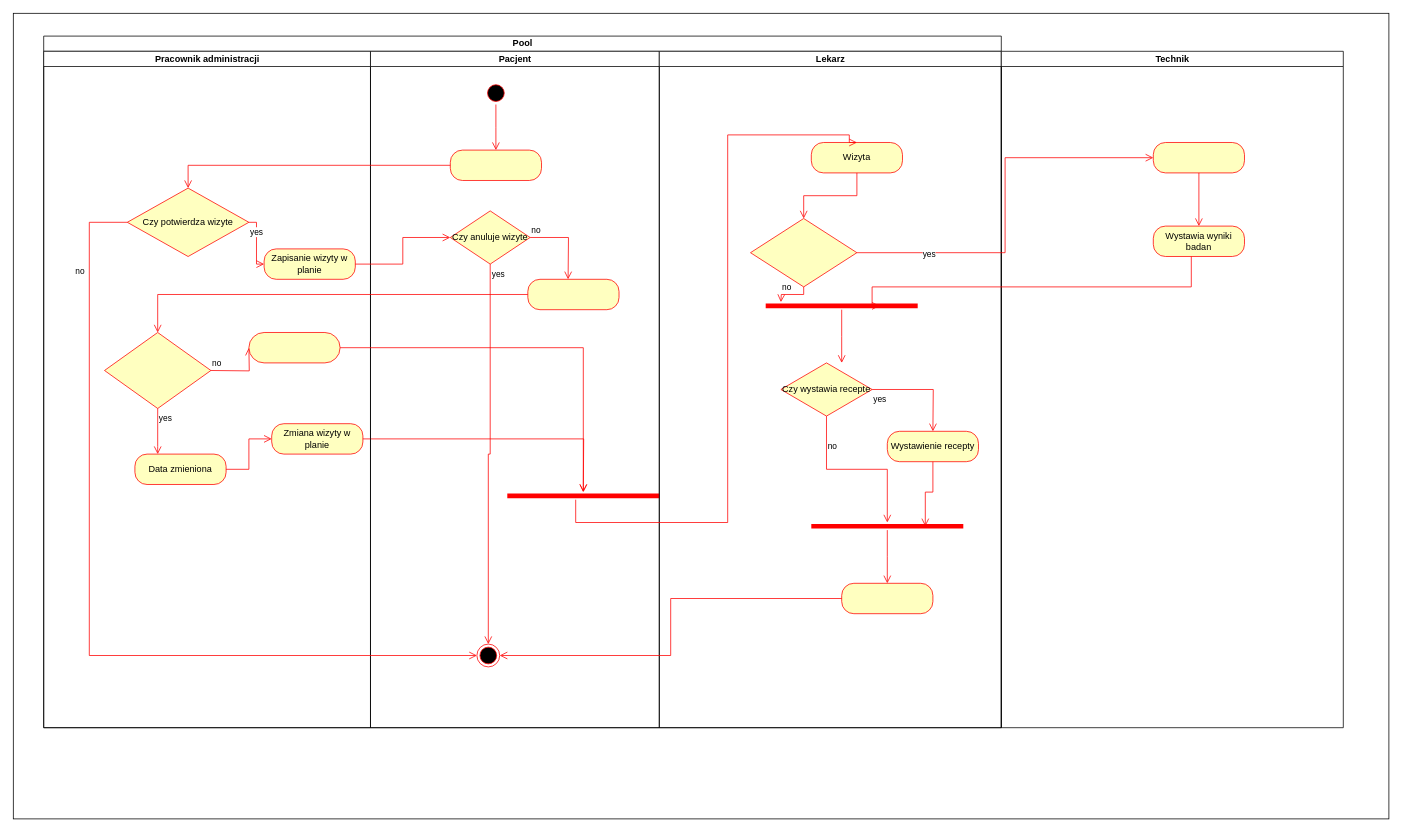
The diagram is 1402 pixels wide and 832 high, and some of its shapes have lost their labels. The shapes that lost their labels are listed below. From the top down, each one's centre as x and y in pixels, then its label:
point (496, 164): Umawia wizyte
point (1198, 157): Badania
point (803, 252): Czy wysyłą na dodatkowe badania
point (573, 294): Zmienia date
point (294, 347): Data niezmieniona
point (157, 370): Czy potwierdza zmiane daty
point (887, 598): Zapisanie wizyty do historii
